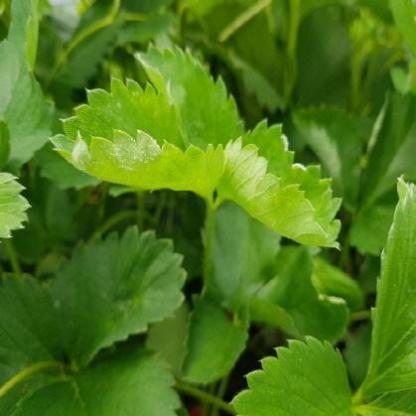Strawberry_Powdery_Mildew_Leaf: (48, 75, 224, 204), (216, 117, 344, 251)
